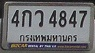num4: (10, 9, 20, 27)
txt01: (20, 9, 33, 28)
txt32: (34, 9, 45, 28)
